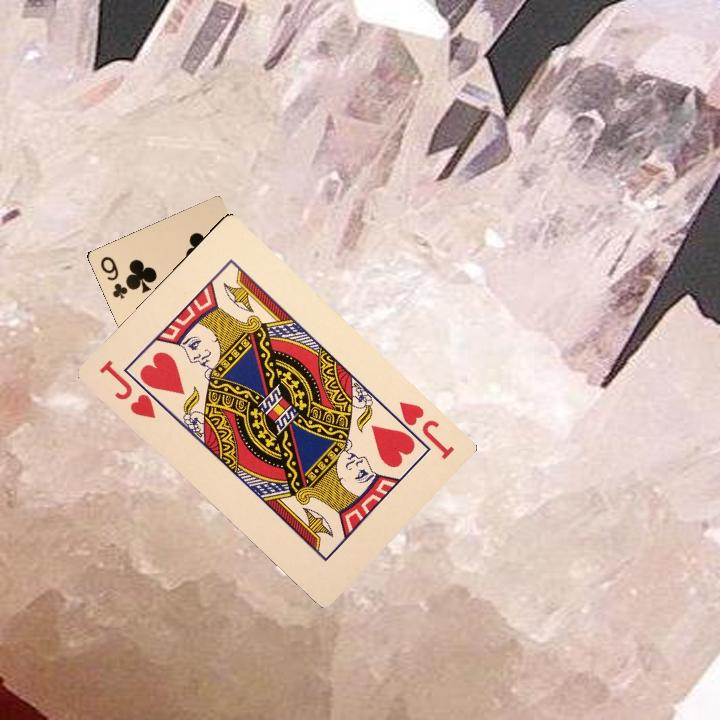9c: (96, 252, 132, 301)
Jh: (94, 356, 169, 421), (384, 397, 457, 462)
